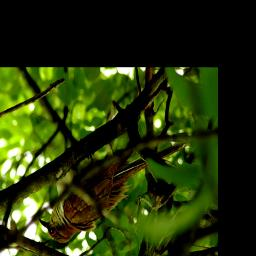Cuckoo: (38, 140, 187, 245)
